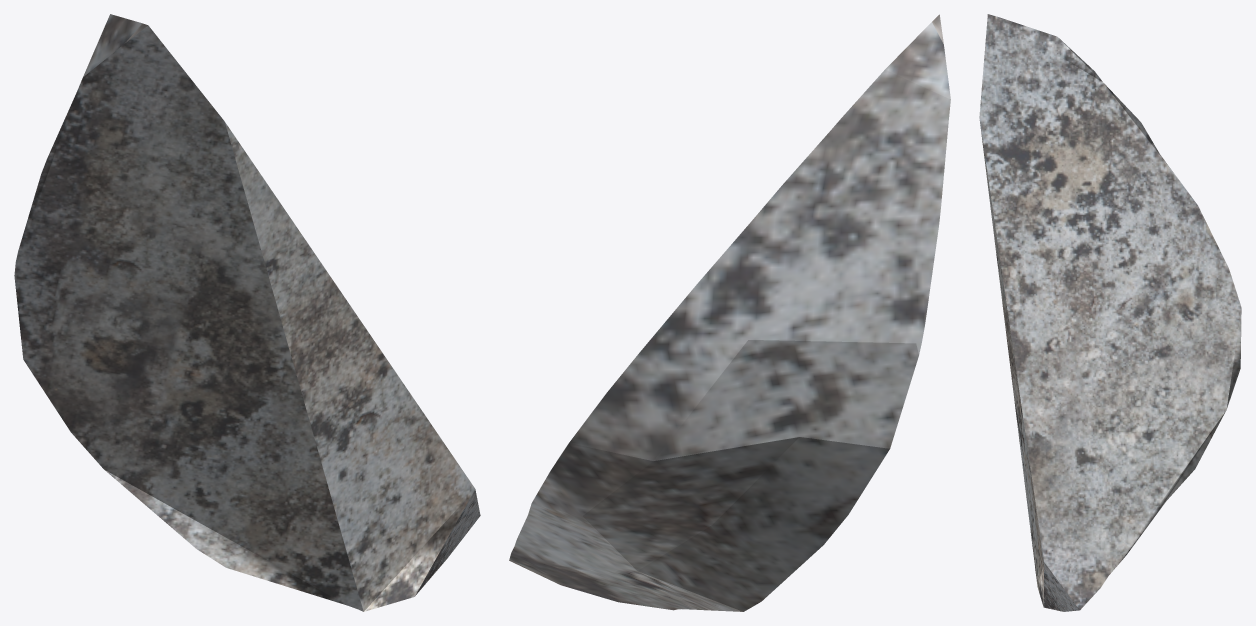
Rendered from Asteroid_Medium_001_02_003.fbx.
3 renders of one model, left to right at view 1: azimuth 30°, elevation 25°; view 2: azimuth 150°, elevation 25°; view 3: azimuth 270°, elevation 25°, orthographic. The views are drawn at different scales.
Parts seen in each view (by area): view 1: Asteroid_Medium_001_02_003; view 2: Asteroid_Medium_001_02_003; view 3: Asteroid_Medium_001_02_003.
Part boxes in pixels (x1=…): Asteroid_Medium_001_02_003: x1=14, y1=14, x2=480, y2=611; Asteroid_Medium_001_02_003: x1=509, y1=14, x2=950, y2=611; Asteroid_Medium_001_02_003: x1=979, y1=14, x2=1241, y2=611.
Bounding box in the file's own units: 12.66 × 17.99 × 8.79.
